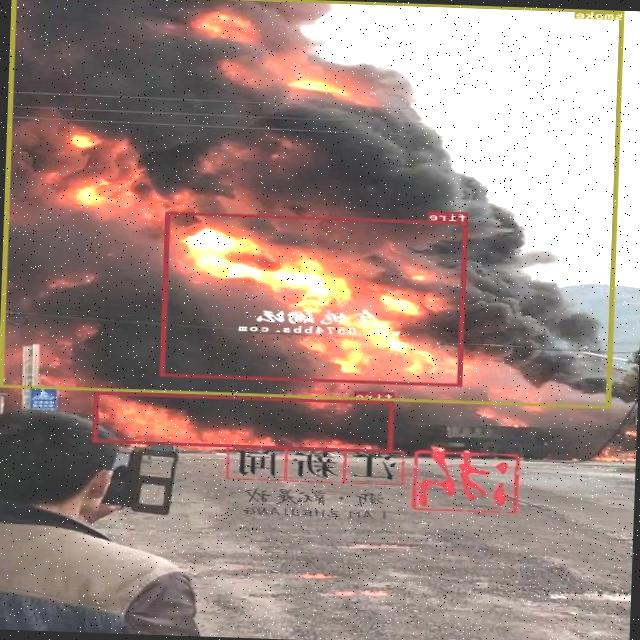fire: (160, 212, 468, 386), (92, 391, 396, 452)
smoke: (0, 0, 625, 407)
